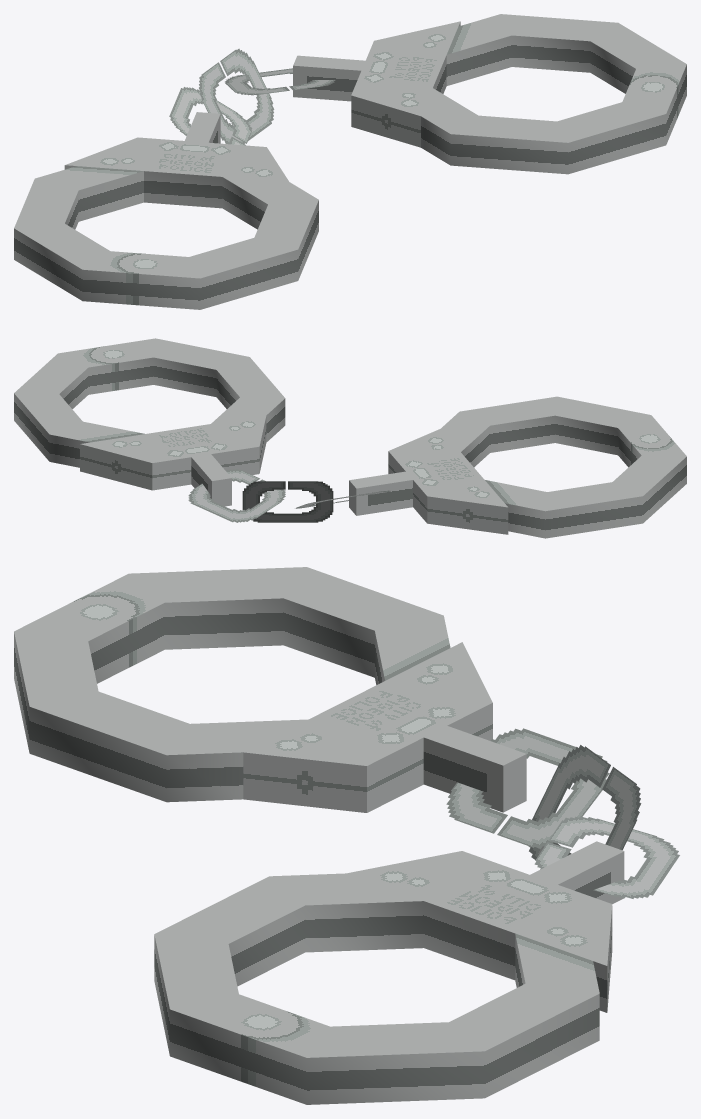
The model's file is 030b_Handcuffs.glb.
3 views of the same model, one above another, from view 1: azimuth 30°, elevation 25°; view 2: azimuth 150°, elevation 25°; view 3: azimuth 270°, elevation 25° (orthographic). The views are drawn at different scales.
Visible parts, largest first — view 1: part_0; view 2: part_0; view 3: part_0.
Part boxes in pixels (box(x1,y1,x2,y2)): part_0: box(14, 14, 686, 309); part_0: box(14, 338, 686, 538); part_0: box(14, 567, 679, 1104).
Bounding box in the file's own units: 0.3358 × 0.0312 × 0.1945.
Materials: 1 (1 with a texture image).
